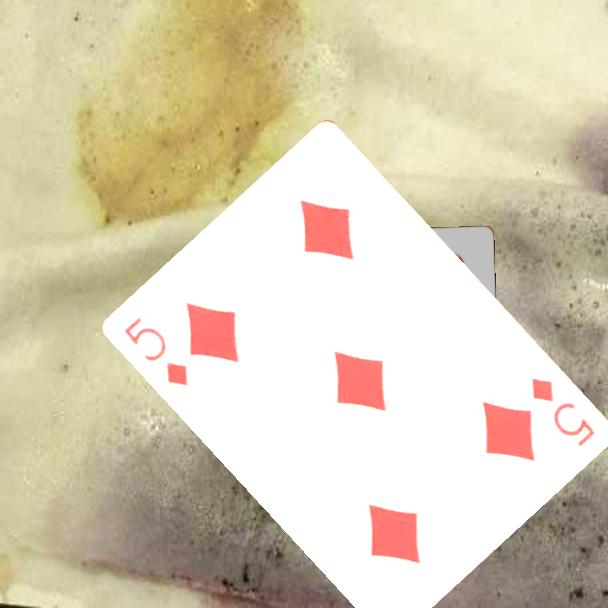d05: (121, 313, 192, 390), (528, 374, 598, 449)
